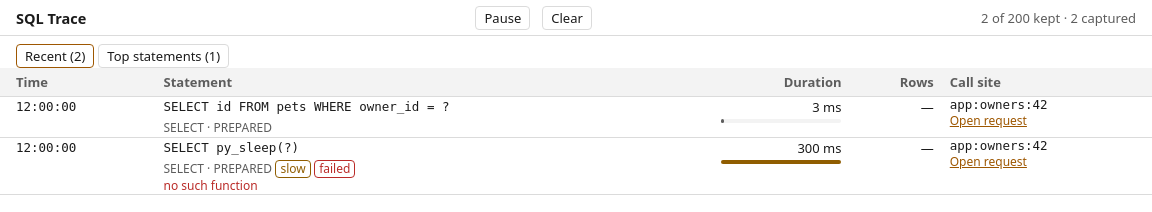
Test: Top statements: executions, totals and the N+1 badge
This screenshot has width=1152, height=212.
Click the tab "Top statements (1)" at x=164, y=56, box [98,44,229,68]
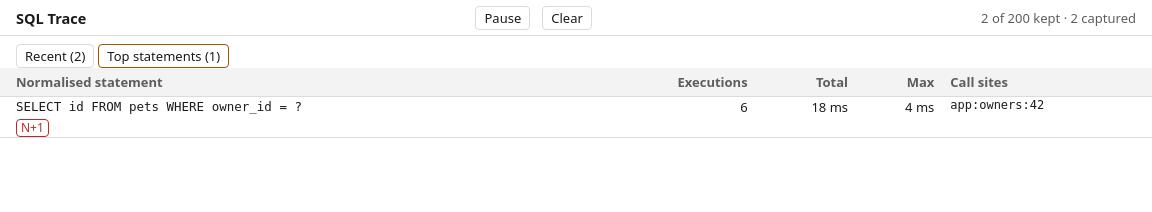
expect the text "N+1" is shown: met, box [16,118,49,136]
expect the text "6" is shown: met, box [591,96,756,137]
